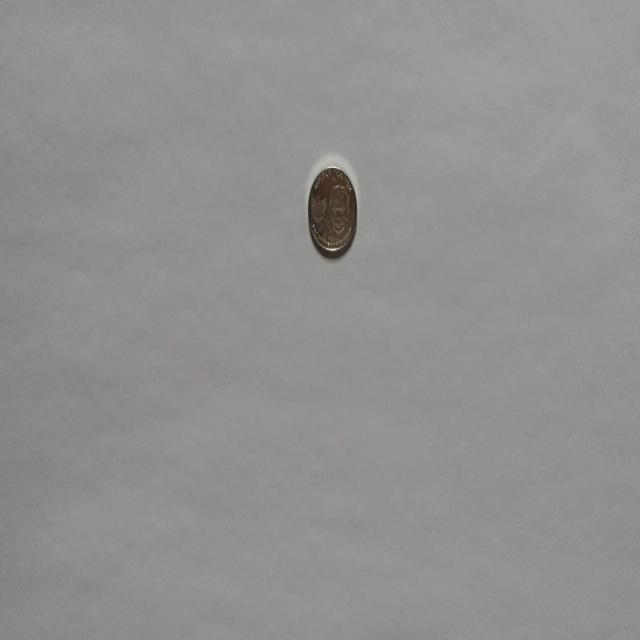seratus rupiah: (307, 163, 357, 257)
